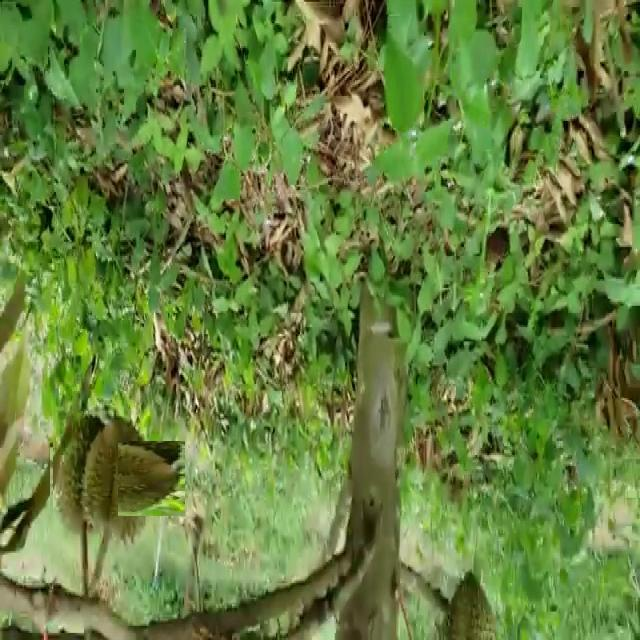durian: (65, 426, 171, 531), (53, 411, 118, 540)
